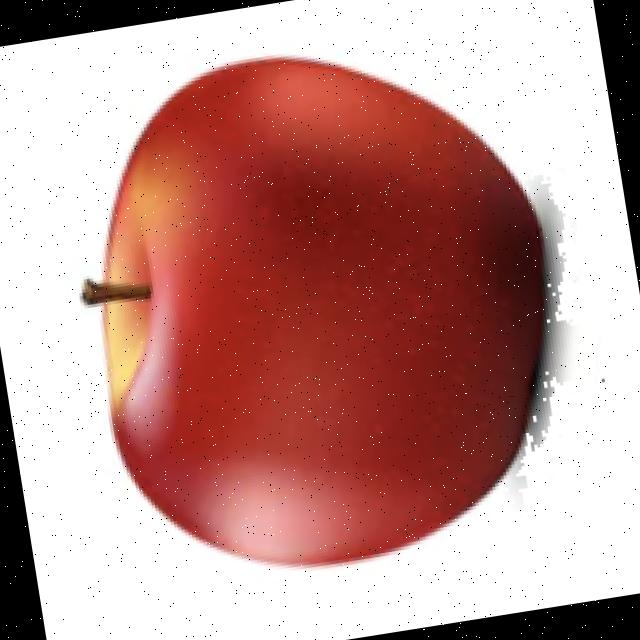apple: (76, 50, 578, 572)
